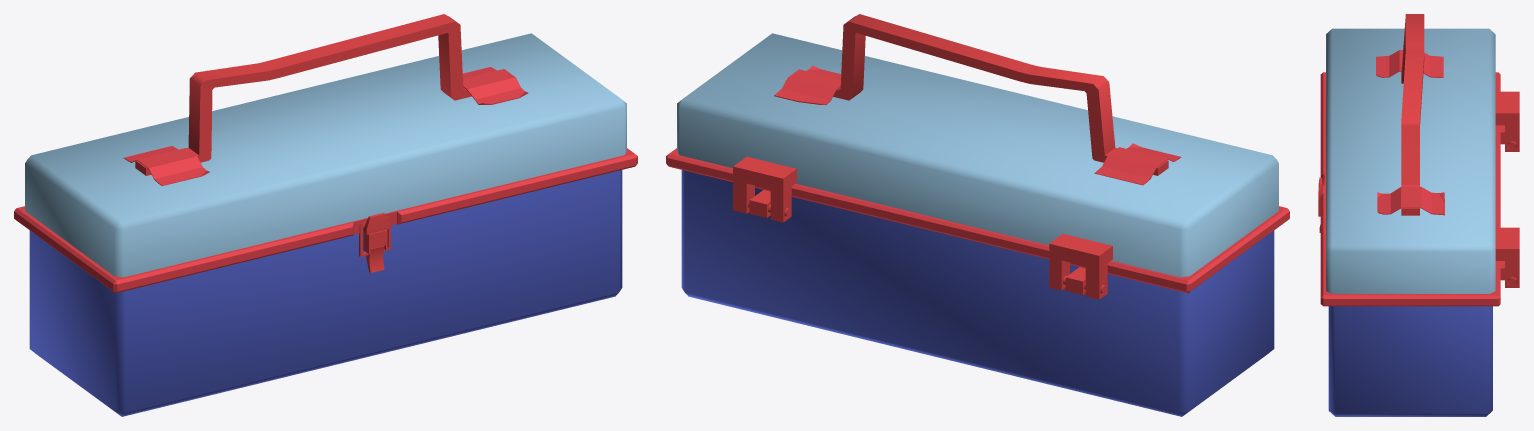
File: ToolBox.glb
3 renders of one model, left to right at view 1: azimuth 30°, elevation 25°; view 2: azimuth 150°, elevation 25°; view 3: azimuth 270°, elevation 25°, orthographic. The views are drawn at different scales.
Parts seen in each view (by area): view 1: Cube.009, Cube.008, Cube, Cube.011, Plane, Plane.001, Cube.015; view 2: Cube.009, Cube.008, Cube.011, Cube, Cylinder.001, Plane, Plane.001; view 3: Cube.009, Cube.008, Cube, Cube.011, Cylinder.001, Plane.001, Plane.
Part boxes in pixels (x1=…): Cube.009: x1=25, y1=33, x2=626, y2=277; Cube.008: x1=29, y1=170, x2=622, y2=416; Cube: x1=14, y1=148, x2=637, y2=293; Cube.011: x1=135, y1=14, x2=516, y2=175; Plane: x1=124, y1=146, x2=209, y2=185; Plane.001: x1=462, y1=67, x2=528, y2=104; Cube.015: x1=359, y1=213, x2=390, y2=272; Cube.009: x1=677, y1=33, x2=1278, y2=277; Cube.008: x1=681, y1=170, x2=1274, y2=416; Cube.011: x1=833, y1=14, x2=1168, y2=175; Cube: x1=666, y1=148, x2=1289, y2=293; Cylinder.001: x1=733, y1=156, x2=1112, y2=299; Plane: x1=1094, y1=143, x2=1181, y2=185; Plane.001: x1=774, y1=65, x2=841, y2=104; Cube.009: x1=1326, y1=28, x2=1495, y2=293; Cube.008: x1=1328, y1=306, x2=1492, y2=416; Cube: x1=1320, y1=72, x2=1500, y2=306; Cube.011: x1=1401, y1=14, x2=1424, y2=215; Cylinder.001: x1=1495, y1=91, x2=1519, y2=287; Plane.001: x1=1377, y1=186, x2=1444, y2=215; Plane: x1=1376, y1=50, x2=1443, y2=77.
Size of the model in its own units: 629 by 318 by 237.
